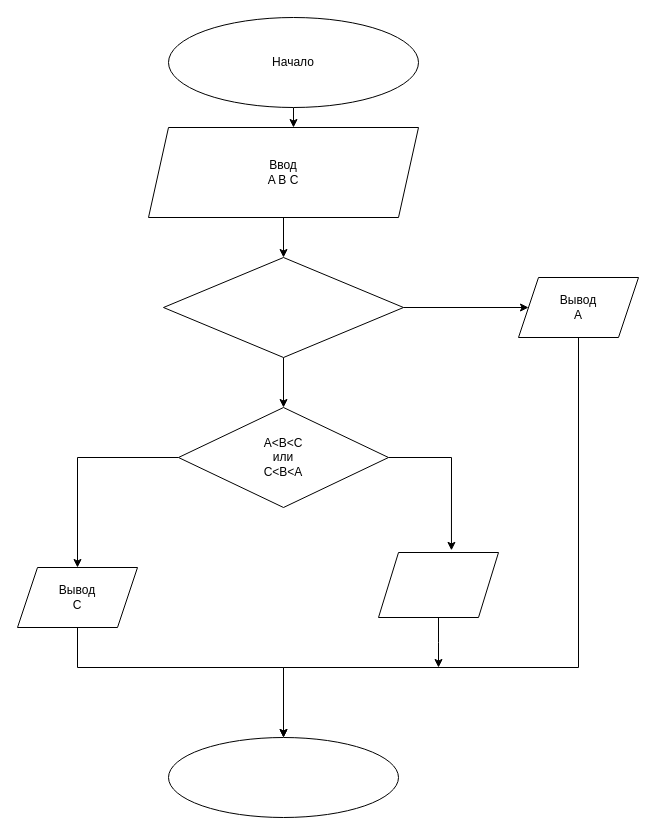
This 656x835 diagram has some shape labels left out. Each missing label, with the centre of its shape:
B<A<C или C<A<B: the point at 283,307
Вывод B: the point at 438,585
Конец: the point at 283,777
